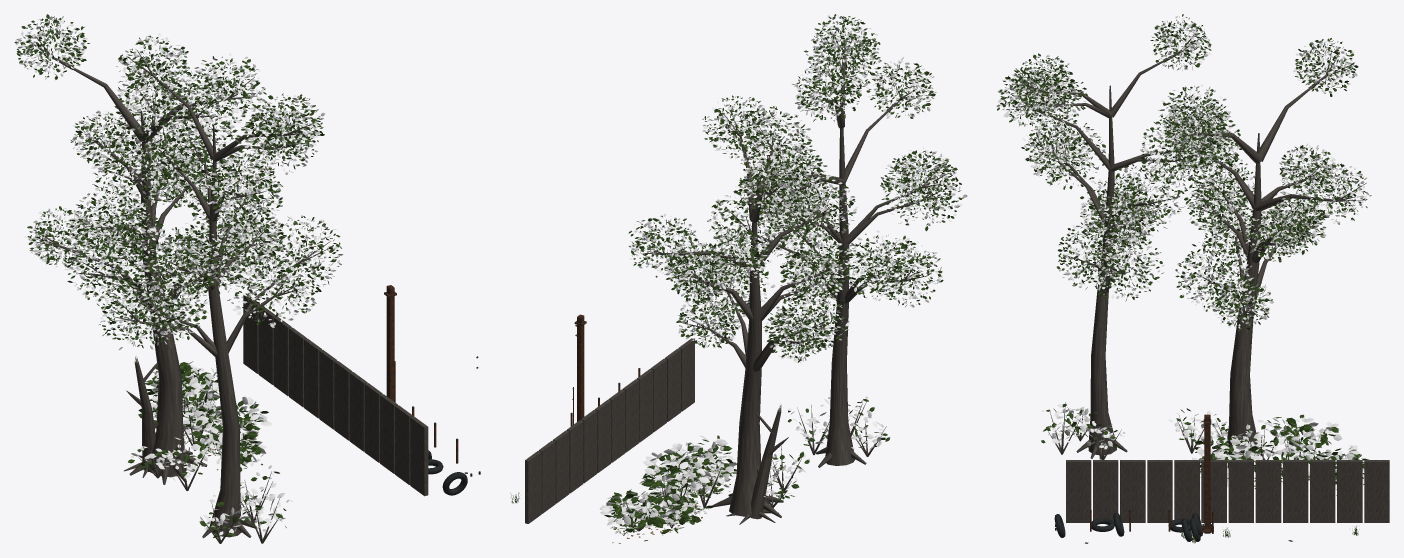
Rendered from SM_Env_Tile_m3_p0.fbx.
3 renders of one model, left to right at view 1: azimuth 30°, elevation 25°; view 2: azimuth 150°, elevation 25°; view 3: azimuth 270°, elevation 25°, orthographic. The views are drawn at different scales.
Visible parts, largest first — view 1: SM_Env_Tile_m3_p0; view 2: SM_Env_Tile_m3_p0; view 3: SM_Env_Tile_m3_p0.
Part boxes in pixels (bbox=[...]): SM_Env_Tile_m3_p0: bbox=[14, 14, 480, 543]; SM_Env_Tile_m3_p0: bbox=[510, 14, 967, 543]; SM_Env_Tile_m3_p0: bbox=[996, 14, 1389, 543].
Size of what is drawn, in the model's own units: 1342 by 1450 by 1700.
11 materials, 5 textured.
